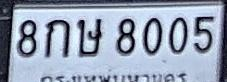0: (168, 16, 188, 54), (142, 17, 162, 55)
5: (193, 15, 214, 53)
8: (115, 18, 137, 56), (17, 19, 37, 57)
A01: (44, 19, 70, 58)
A39: (76, 18, 102, 57)
